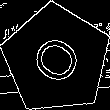O_SE: (24, 28, 89, 90)
